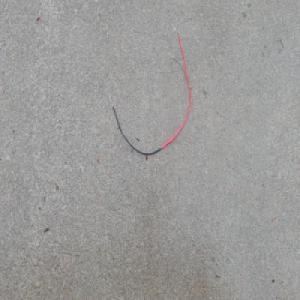Wire: (107, 20, 193, 156)
